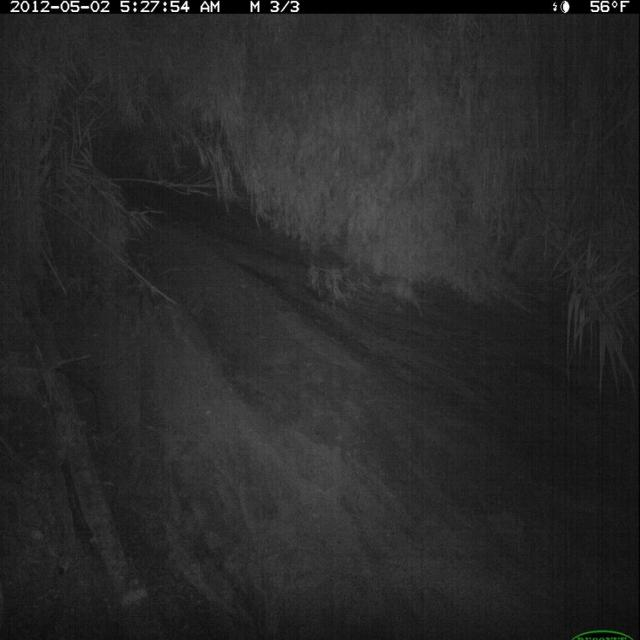opossum: (376, 270, 440, 322)
